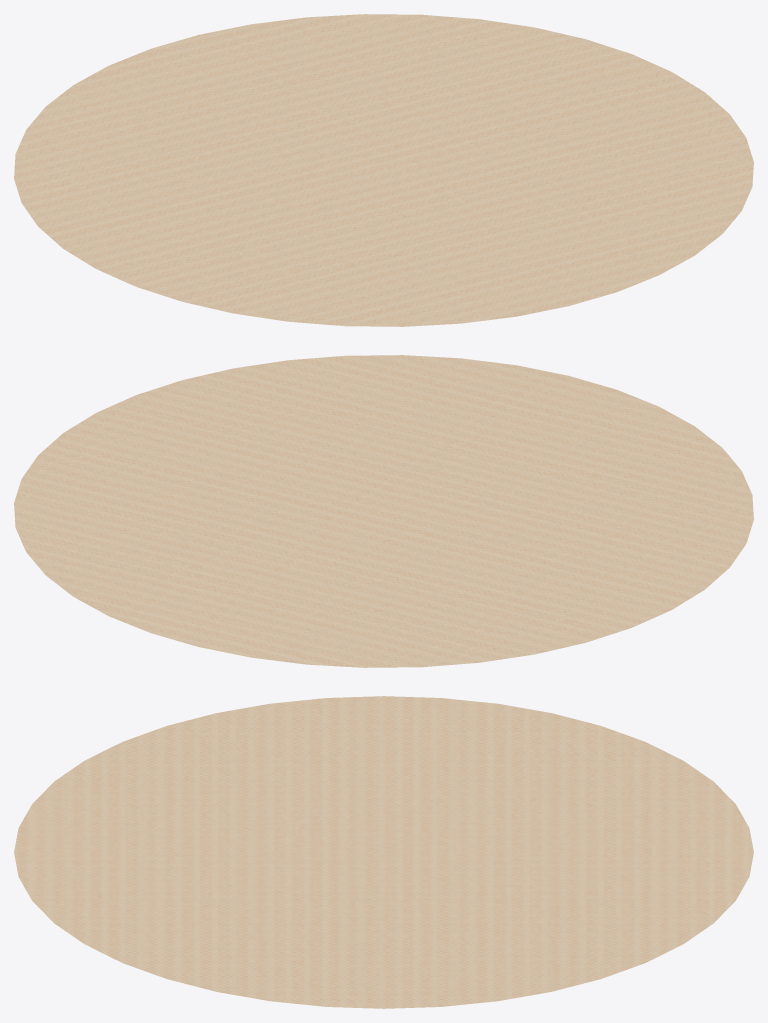
Rendered from Rug.fbx.
The picture shows the model from 3 angles, top to bottom: view 1: azimuth 30°, elevation 25°; view 2: azimuth 150°, elevation 25°; view 3: azimuth 270°, elevation 25°; orthographic projection.
Visible parts, largest first — view 1: pDisc5; view 2: pDisc5; view 3: pDisc5.
Boxes of the visible parts, left/top/right/bottom form: pDisc5: left=14, top=14, right=753, bottom=326; pDisc5: left=14, top=355, right=753, bottom=667; pDisc5: left=14, top=696, right=753, bottom=1008.
Size of the model in its own units: 22.91 by 0 by 22.91.
